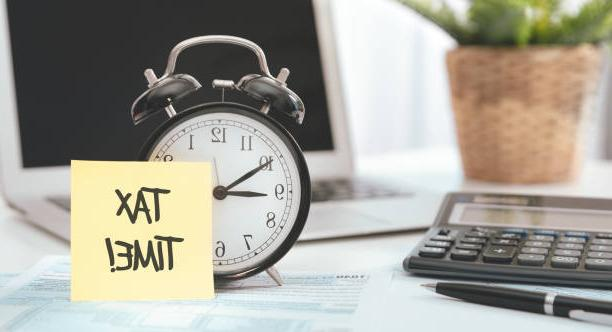clock: (135, 108, 309, 299)
